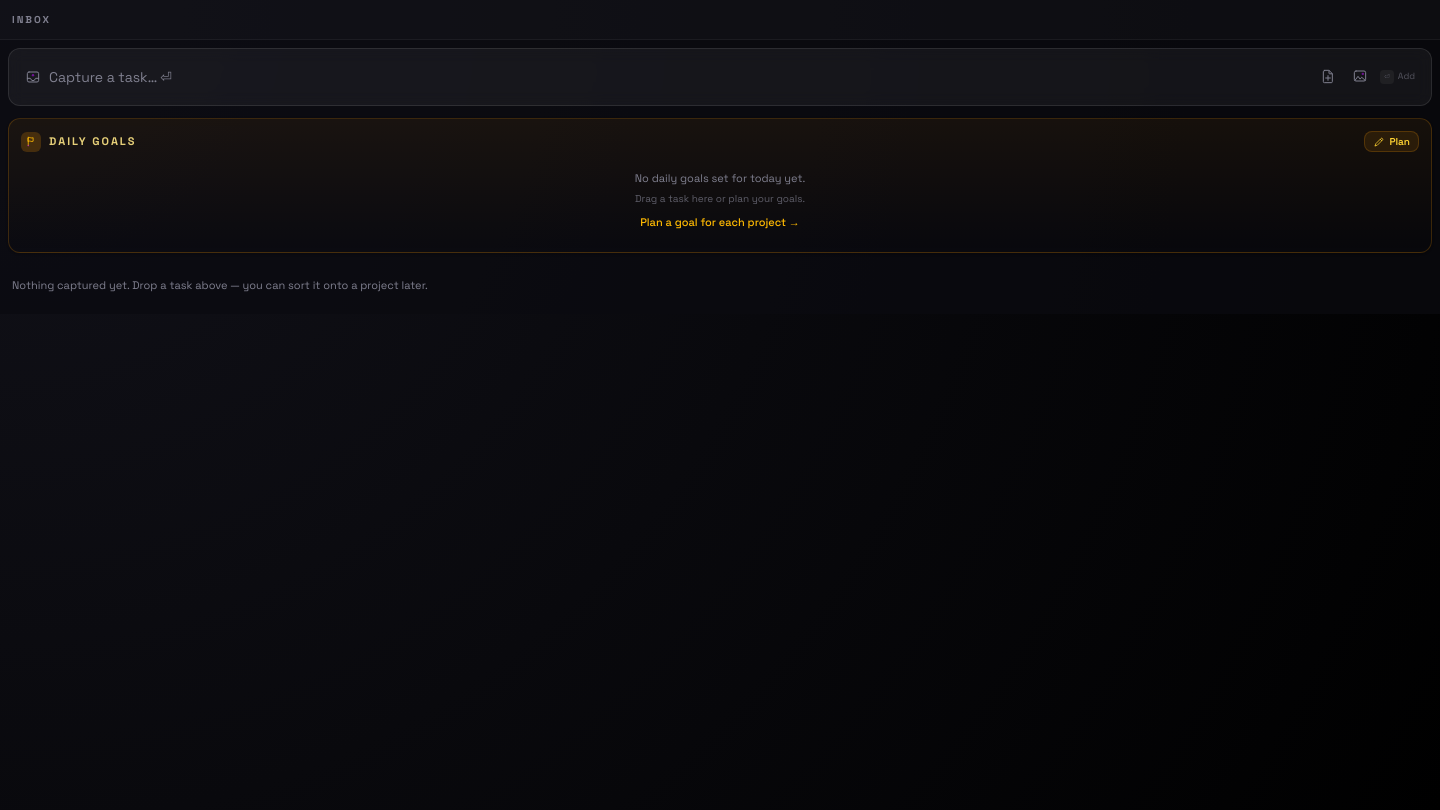
Test case: InboxPanel - Daily Goals Integration › opens daily goals planner when clicking the Plan button
Click the button with aria-label "Plan daily goals" at x=1392, y=142, box [1364,131,1419,152]
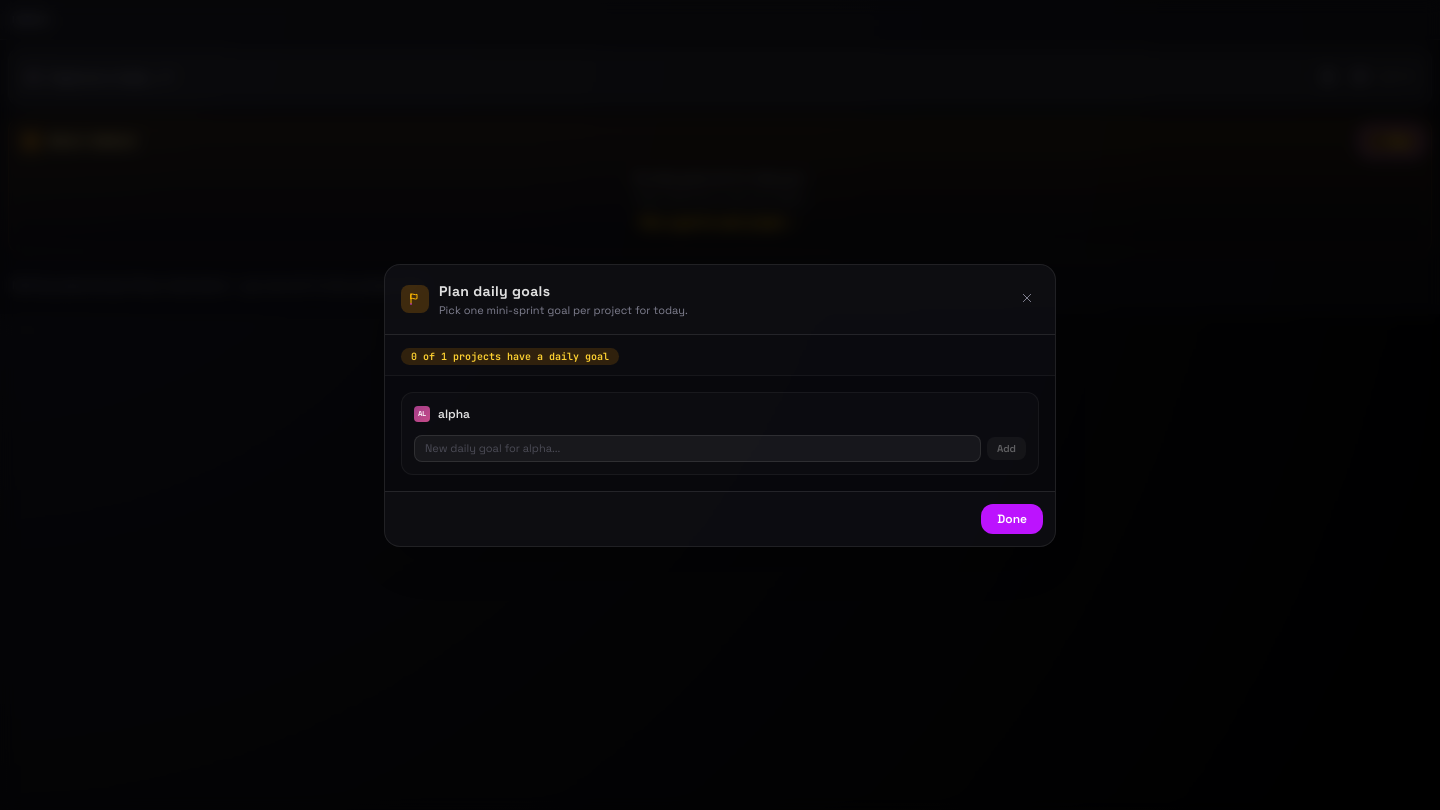
Expected: the dialog is shown
Expected: the text "Pick one mini-sprint goal per project for today." is shown, [439,302,688,318]
